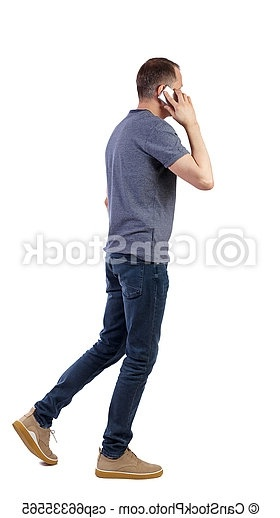not_fallen: (11, 52, 212, 488)
